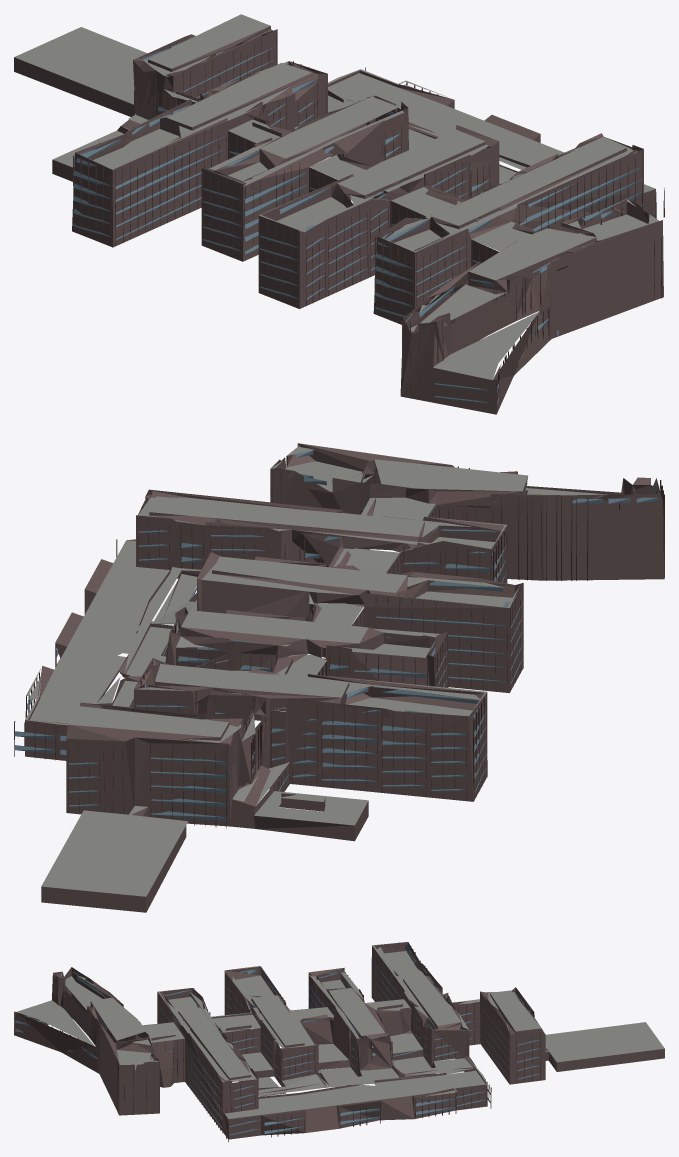
Rendered from shell-technology-centre.lod1.glb.
The picture shows the model from 3 angles, top to bottom: view 1: azimuth 30°, elevation 25°; view 2: azimuth 150°, elevation 25°; view 3: azimuth 270°, elevation 25°; orthographic projection. The views are drawn at different scales.
Visible parts, largest first — view 1: shell-technology-centre; view 2: shell-technology-centre; view 3: shell-technology-centre.
Boxes of the visible parts, x1,y1,x2,y2 form: shell-technology-centre: (14, 14, 664, 414); shell-technology-centre: (14, 443, 664, 912); shell-technology-centre: (14, 942, 664, 1142).
Bounding box in the file's own units: 178 × 30.22 × 327.
